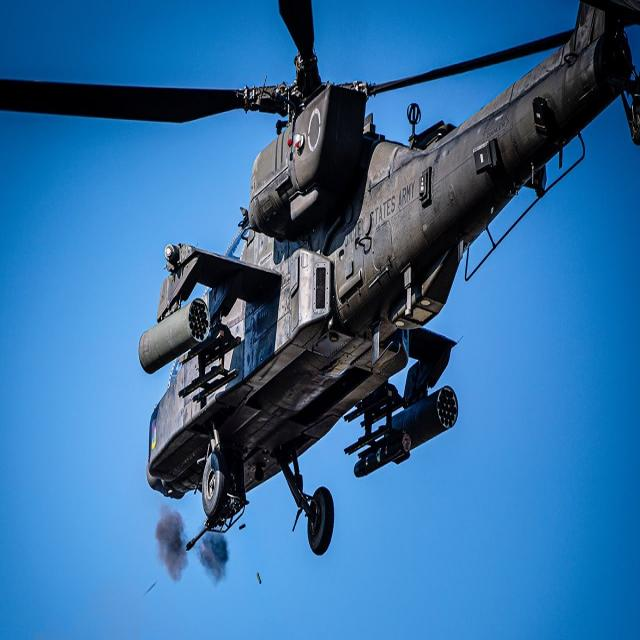Apache: (6, 2, 619, 564)
